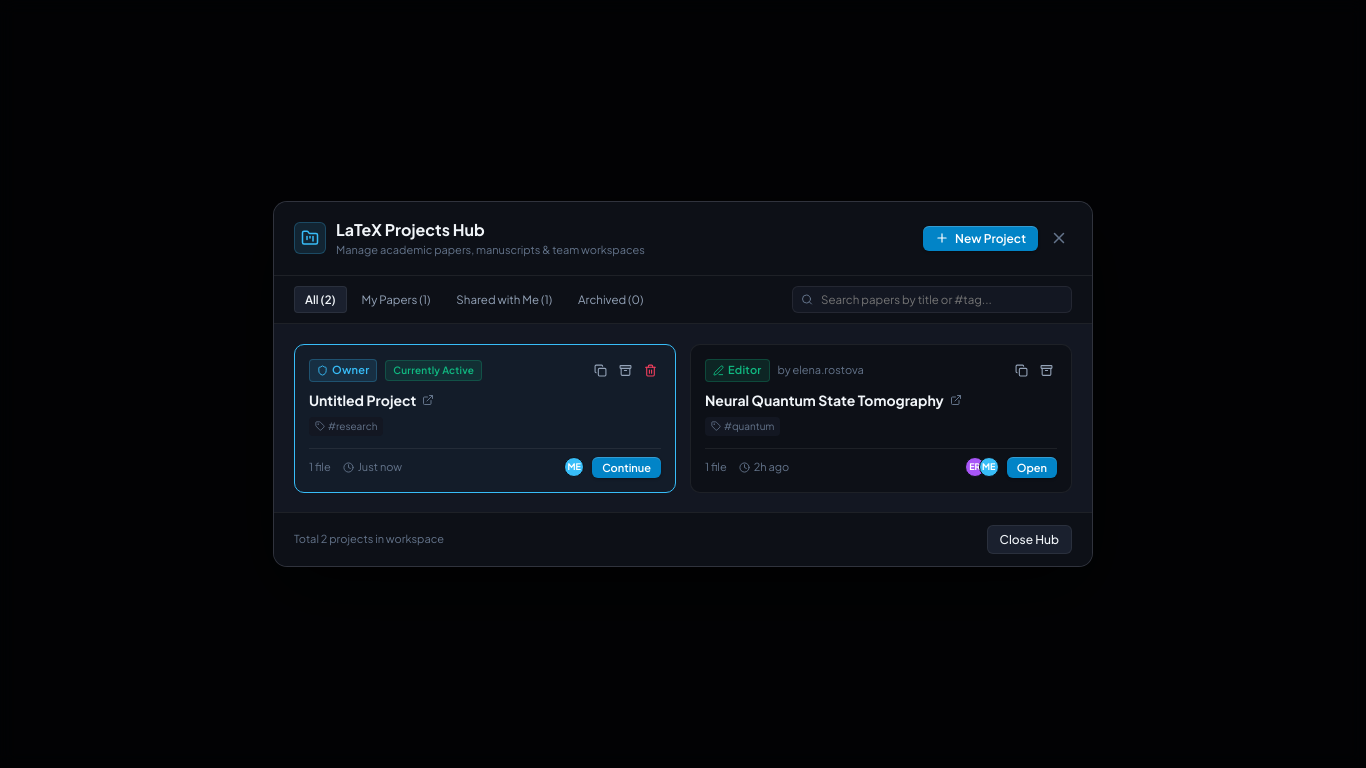
Test: ProjectsDashboardModal Component › filters to shared papers when clicking "Shared with Me" tab
This screenshot has width=1366, height=768.
What coordinates should you click on to do the following:
click the button "Shared with Me (1)"
I would click on:
 (504, 299)
Its box is 445,286 -> 563,312.
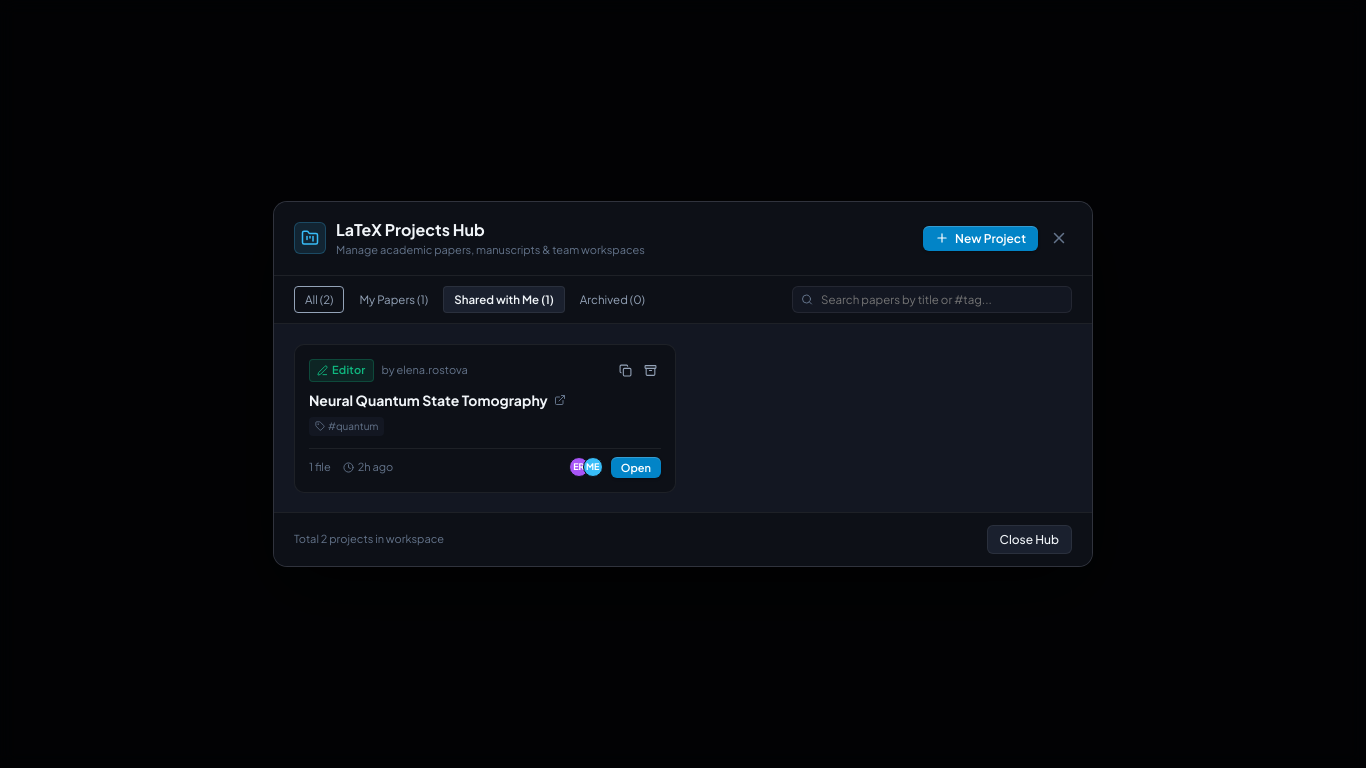
Expected: the text "Neural Quantum State Tomography" is shown, 309,390 -> 566,408
Result: the text "Untitled Project" is gone
